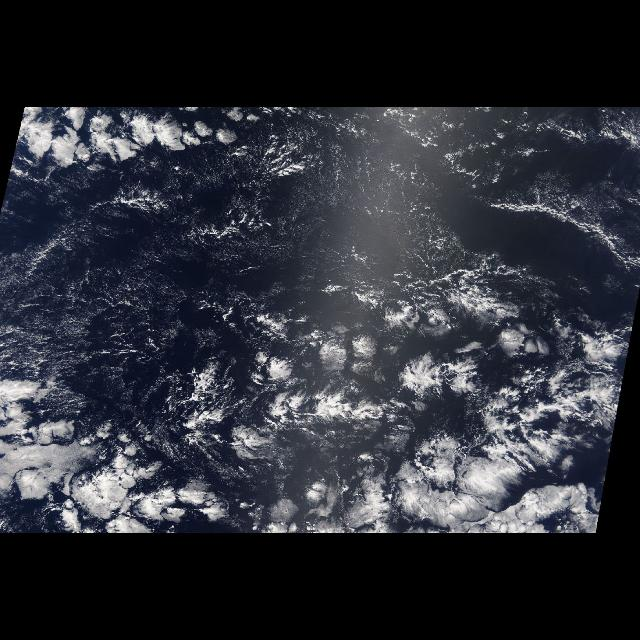Flower: (1, 270, 640, 532), (8, 109, 260, 188)
Sugar: (3, 110, 473, 404)
